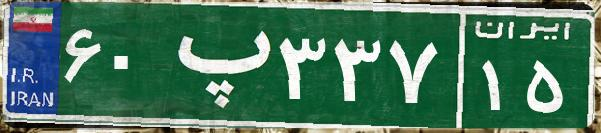0: (110, 28, 158, 105)
1: (475, 38, 525, 113)
3: (273, 28, 330, 110), (330, 28, 385, 110)
5: (525, 38, 570, 115)
6: (57, 26, 110, 107)
7: (385, 28, 445, 110)
پ: (158, 15, 273, 115)
